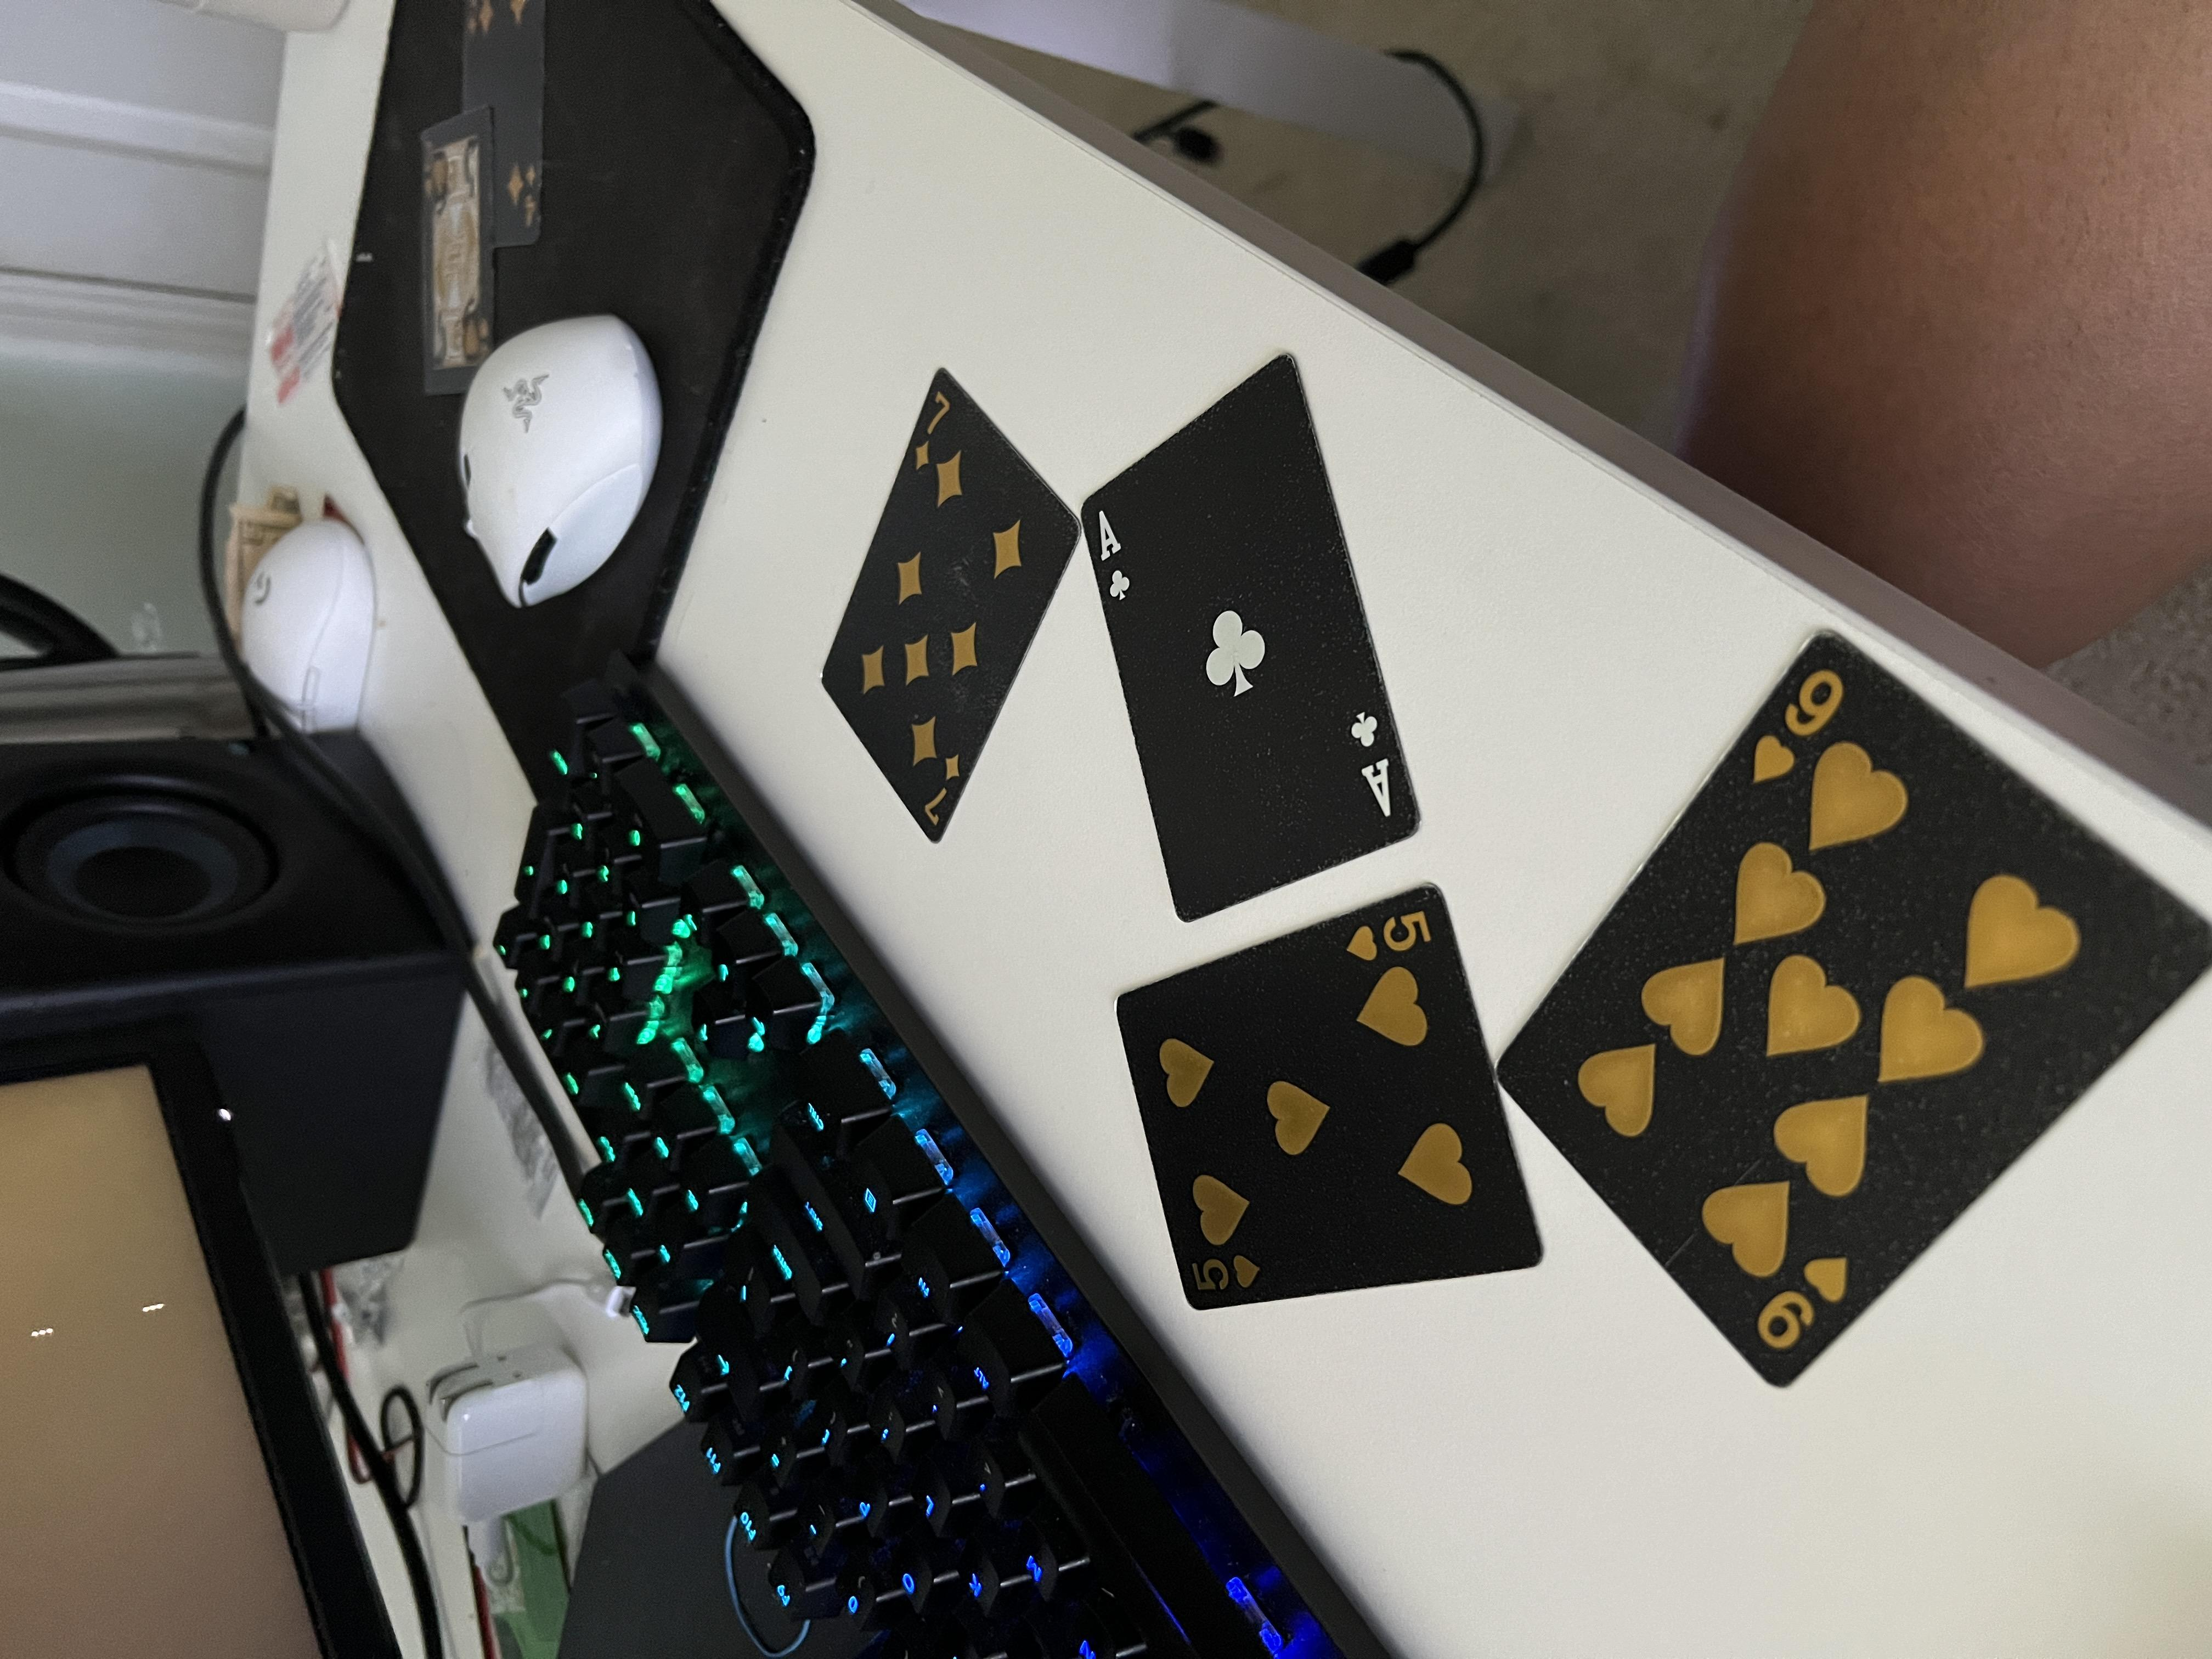5H: (923, 1011, 1012, 1086), (482, 890, 556, 951)
7D: (1092, 681, 1221, 734), (1585, 681, 1707, 728)
9H: (378, 1316, 566, 1401), (1163, 1305, 1341, 1391)
AC: (1113, 1009, 1280, 1054), (1399, 819, 1557, 850)
